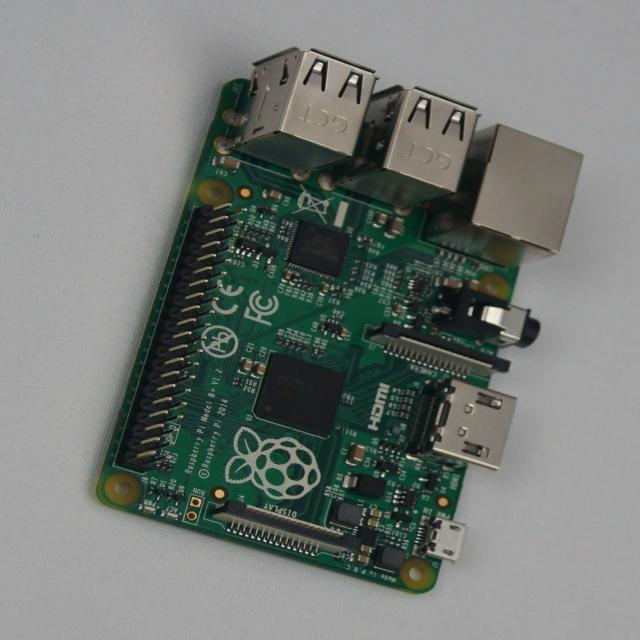Raspberry Pi 1 B-: (98, 49, 582, 593)
